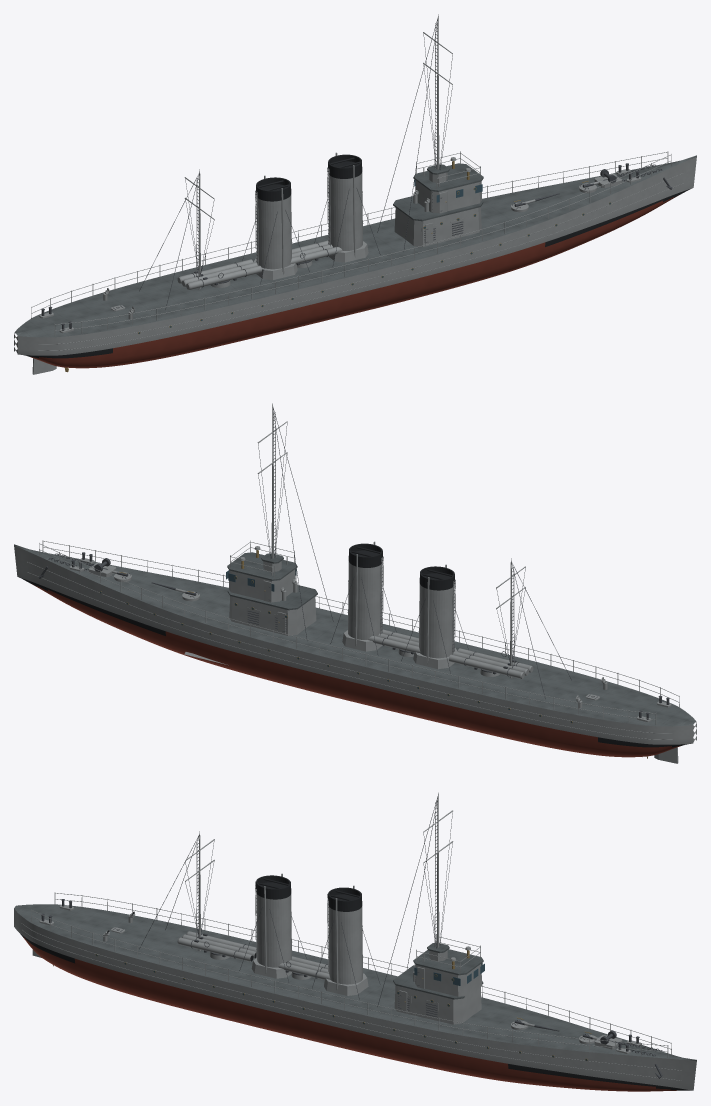
File: fallback-tb.glb
The picture shows the model from 3 angles, top to bottom: view 1: azimuth 30°, elevation 25°; view 2: azimuth 150°, elevation 25°; view 3: azimuth 330°, elevation 25°; orthographic projection.
Parts seen in each view (by area): view 1: Original TB custom-design concept; view 2: Original TB custom-design concept; view 3: Original TB custom-design concept.
Boxes of the visible parts, <box> form: Original TB custom-design concept: <box>14,14,696,374</box>; Original TB custom-design concept: <box>14,403,696,763</box>; Original TB custom-design concept: <box>14,792,696,1091</box>.
Bounding box in the file's own units: 59 × 21.83 × 7.39.
8 materials, 7 textured.
